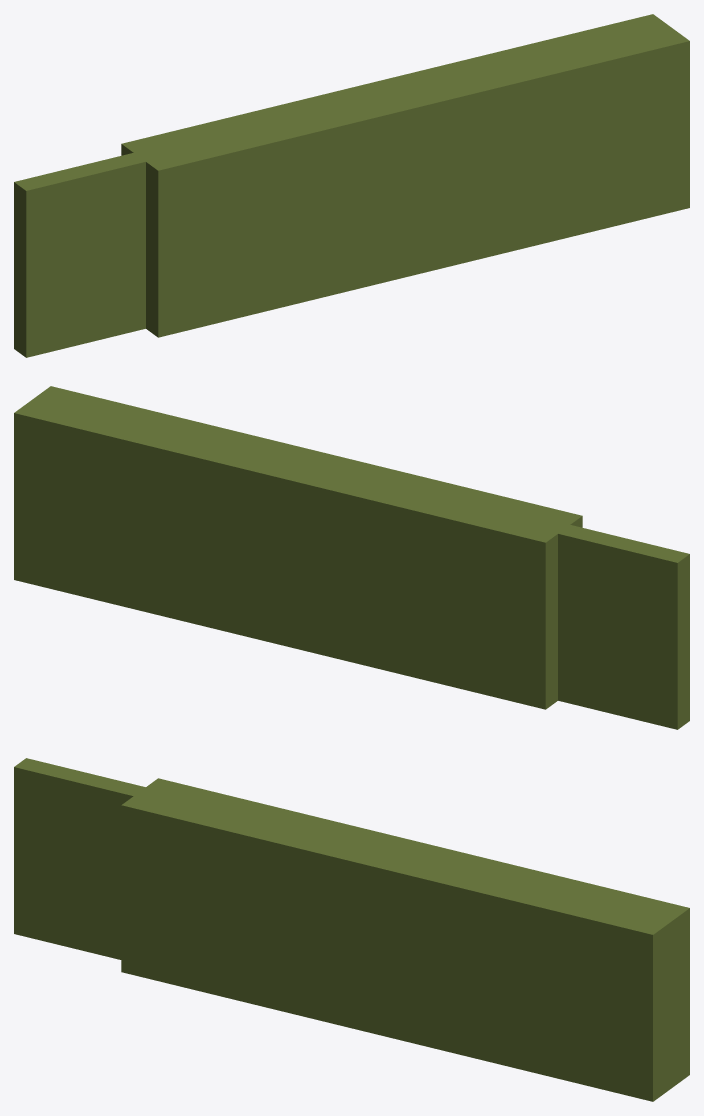
File: lake-lin-shallows-0.glb
The picture shows the model from 3 angles, top to bottom: view 1: azimuth 30°, elevation 25°; view 2: azimuth 150°, elevation 25°; view 3: azimuth 330°, elevation 25°; orthographic projection.
Visible parts, largest first — view 1: body, tail; view 2: body, tail; view 3: body, tail.
Part boxes in pixels (x1=…): body: x1=121, y1=14, x2=689, y2=337; tail: x1=14, y1=150, x2=158, y2=357; body: x1=14, y1=386, x2=582, y2=709; tail: x1=545, y1=521, x2=689, y2=729; body: x1=121, y1=778, x2=689, y2=1101; tail: x1=14, y1=758, x2=157, y2=959.
Bounding box in the file's own units: 0.4287 × 0.105 × 0.042.
